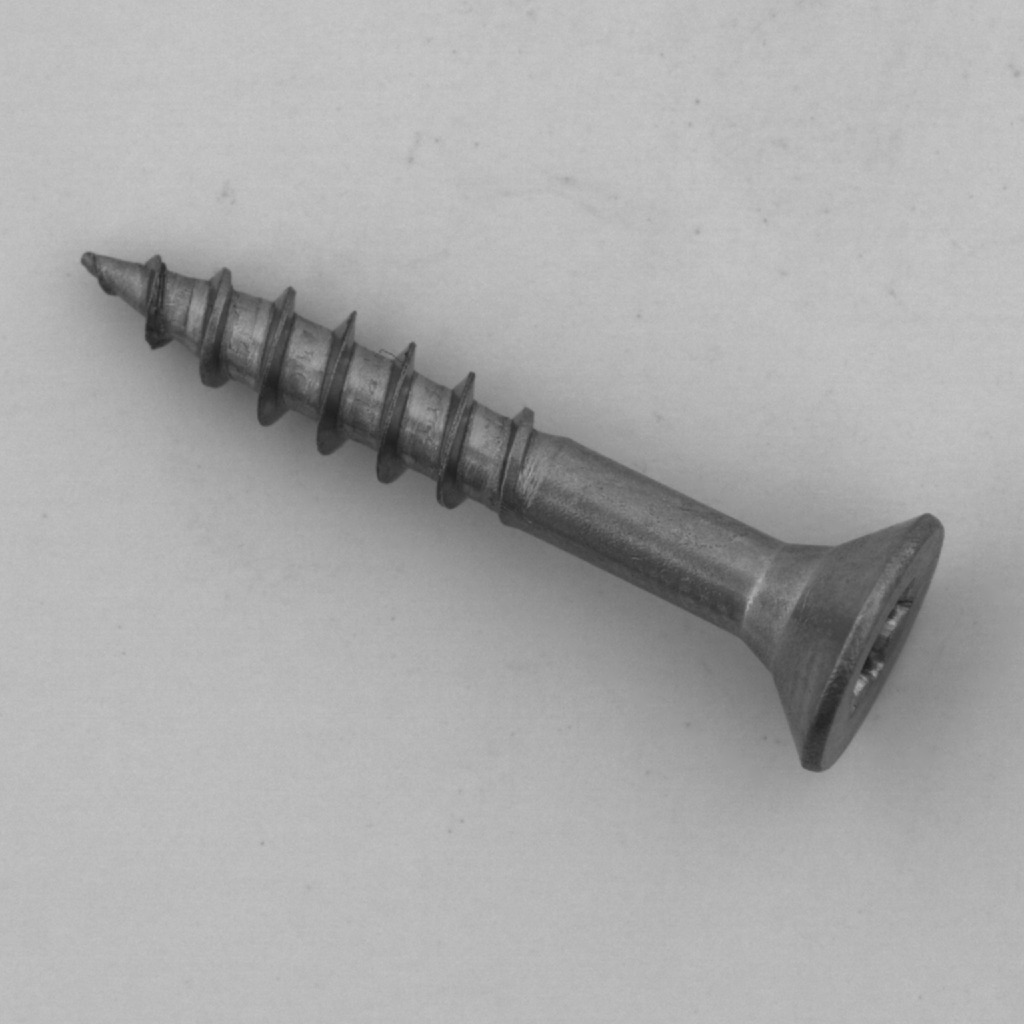good: (60, 228, 960, 798)
